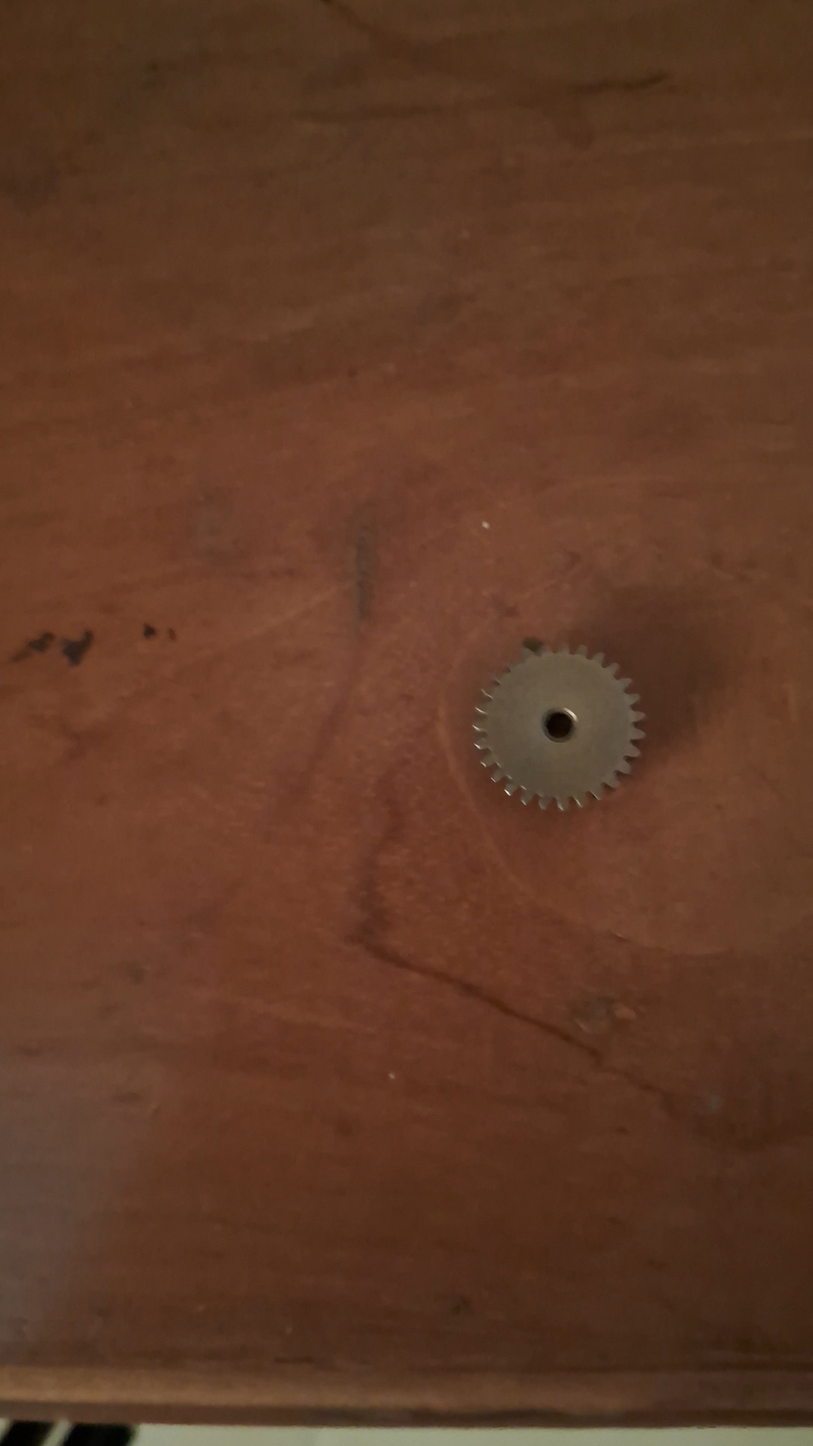spur gear: (474, 645, 644, 810)
